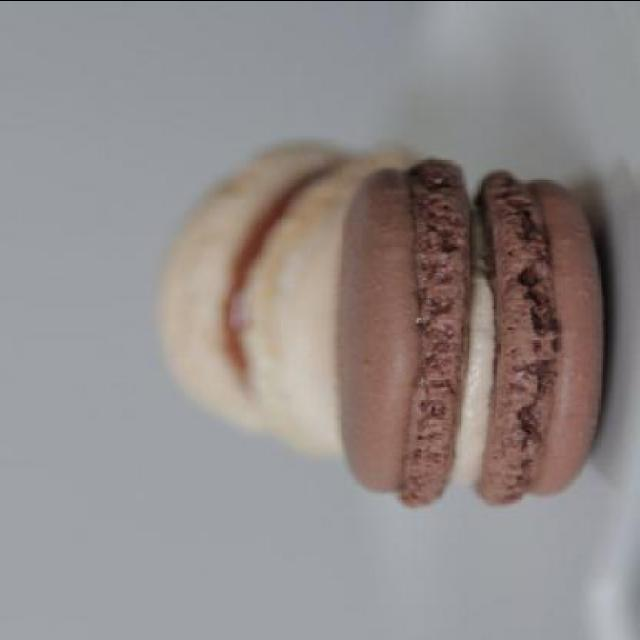Macaron: (150, 155, 614, 502)
